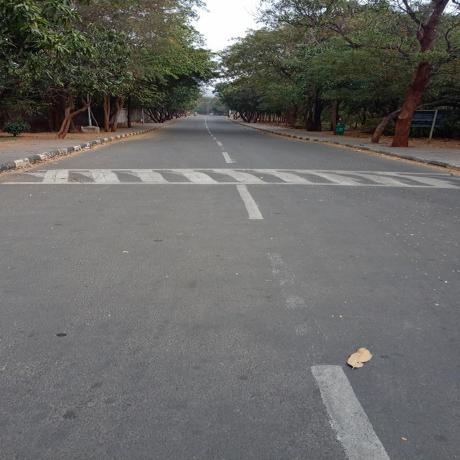Speed Bump: (7, 168, 459, 188)
